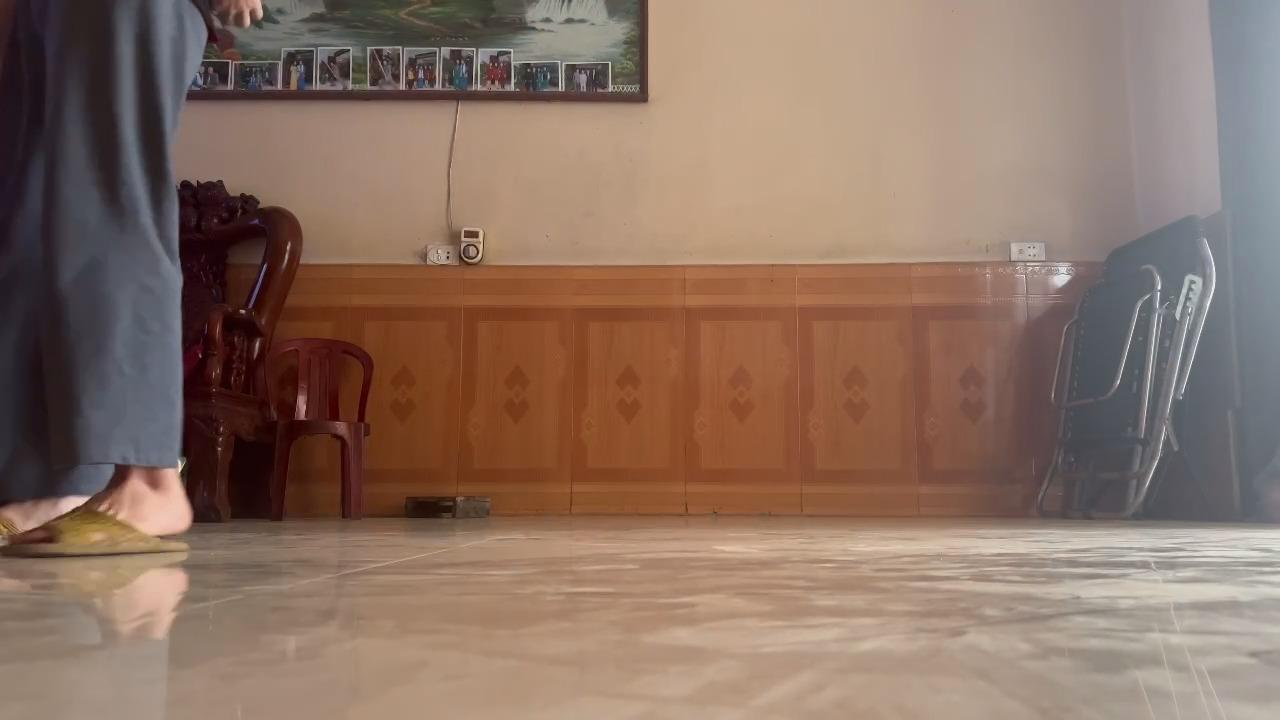no-boot: (3, 485, 207, 569)
